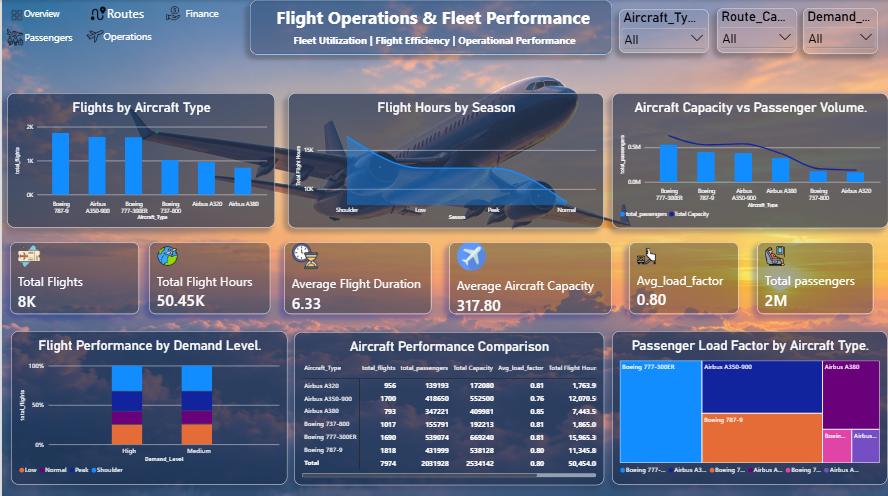

What the dashboard file says about the page in this screenshot:
{"tool":"powerbi","page":{"name":"Flight Operations & Fleet Performance","canvas":[1920,1080],"ordinal":4},"visuals":[{"type":"hundredPercentStackedColumnChart","title":"Flight Performance by Demand Level.","fields":{"Category":["Dim_Demand.Demand_Level"],"Series":["airline_route_profitability_cleaned.Season"],"Y":["Average Aircraft Capacity.total_flights"]},"box":[18.8,715.8,596.9,331.8],"z":0},{"type":"treemap","title":"Passenger Load Factor by Aircraft Type.","fields":{"Group":["airline_route_profitability_cleaned.Aircraft_Type"],"Values":["Average Aircraft Capacity.Total Flight Hours"]},"box":[1316.9,715.8,594.8,331.8],"z":1000},{"type":"cardVisual","fields":{"Data":["calculation_tbl.Total Flight Hours"]},"box":[316.7,523,262.4,155.6],"z":2000},{"type":"cardVisual","fields":{"Data":["Average Aircraft Capacity.Avg_load_factor"]},"box":[1353.6,523,237.1,155.6],"z":3000},{"type":"cardVisual","fields":{"Data":["Average Aircraft Capacity.Average Aircraft Capacity"]},"box":[966.4,523,351.1,155.6],"z":4000},{"type":"cardVisual","fields":{"Data":["calculation_tbl.Average Flight Duration"]},"box":[608,523,318.5,155.6],"z":5000},{"type":"cardVisual","fields":{"Data":["Average Aircraft Capacity.Total passengers"]},"box":[1630.5,523,251.5,155.6],"z":6000},{"type":"shape","box":[535.7,0,781.8,117.6],"z":7000},{"type":"textbox","box":[561,10.9,740.2,52.5],"z":8000},{"type":"textbox","box":[615.3,70.6,637,36.2],"z":9000},{"type":"clusteredColumnChart","title":"Flights by Aircraft Type","fields":{"Category":["airline_route_profitability_cleaned.Aircraft_Type"],"Y":["Average Aircraft Capacity.total_flights"]},"box":[10.9,200.9,579.1,291.4],"z":10000},{"type":"lineClusteredColumnComboChart","title":"Aircraft Capacity vs Passenger Volume.","fields":{"Category":["airline_route_profitability_cleaned.Aircraft_Type"],"Y":["Average Aircraft Capacity.total_passengers"],"Y2":["Average Aircraft Capacity.Total Capacity"]},"box":[1316.9,200.3,596.9,292.2],"z":11000},{"type":"cardVisual","fields":{"Data":["calculation_tbl.total_flights"]},"box":[16.3,523,278.7,155.6],"z":12000},{"type":"areaChart","title":"Flight Hours by Season","fields":{"Category":["airline_route_profitability_cleaned.Season"],"Y":["Average Aircraft Capacity.Total Flight Hours"]},"box":[617.7,200.3,682.4,292.2],"z":13000},{"type":"slicer","fields":{"Values":["airline_route_profitability_cleaned.Aircraft_Type"]},"box":[1331.9,16.3,193.6,63.3],"z":14000},{"type":"slicer","fields":{"Values":["route_details.Route_Category"]},"box":[1543.6,16.3,173.7,63.3],"z":15000},{"type":"slicer","fields":{"Values":["airline_route_profitability_cleaned.Demand_Level"]},"box":[1730,18.1,162.9,63.3],"z":16000},{"type":"pivotTable","title":"Aircraft Performance Comparison","fields":{"Rows":["airline_route_profitability_cleaned.Aircraft_Type"],"Values":["Average Aircraft Capacity.total_flights","Average Aircraft Capacity.total_passengers","Average Aircraft Capacity.Total Capacity","Average Aircraft Capacity.Avg_load_factor","Average Aircraft Capacity.Total Flight Hours","Average Aircraft Capacity.total_profit"]},"box":[631.6,716.6,669.6,331.2],"z":17000},{"type":"actionButton","box":[169,10.6,169,36.1],"z":18000},{"type":"actionButton","box":[16.7,12.8,133.6,38.3],"z":19000},{"type":"textbox","box":[47.1,18.1,85.6,34],"z":20000},{"type":"actionButton","box":[175.5,57.9,173.2,40.4],"z":21000},{"type":"actionButton","box":[10.4,63.8,139.8,48.9],"z":22000},{"type":"textbox","box":[168.3,10.9,152.3,36.1],"z":23000},{"type":"image","box":[187.8,10.6,39.7,36.1],"z":24000},{"type":"textbox","box":[367.4,12.7,129.4,38.3],"z":25000},{"type":"image","box":[352.7,0,35.5,57.4],"z":26000},{"type":"textbox","box":[19.9,65.1,141.9,31.9],"z":27000},{"type":"image","box":[10.4,55.3,35.5,48.9],"z":28000},{"type":"textbox","box":[208.1,63.3,119,34],"z":29000},{"type":"image","box":[175.5,61.5,52.5,36.2],"z":30000},{"type":"image","box":[2.1,17,59.7,31.3],"z":31000}]}

Visuals, with their boxes on the page's 1920x1080 design canvas (x1, y1, x2, y2). These are canvas units, not pixel positions in the 888x496 screenshot, which may show the page scaled, cropped or inside an application window:
"Flight Performance by Demand Level." hundredPercentStackedColumnChart: 19/716/616/1048
"Passenger Load Factor by Aircraft Type." treemap: 1317/716/1912/1048
cardVisual - calculation_tbl.Total Flight Hours: 317/523/579/679
cardVisual - Average Aircraft Capacity.Avg_load_factor: 1354/523/1591/679
cardVisual - Average Aircraft Capacity.Average Aircraft Capacity: 966/523/1318/679
cardVisual - calculation_tbl.Average Flight Duration: 608/523/926/679
cardVisual - Average Aircraft Capacity.Total passengers: 1630/523/1882/679
shape: 536/0/1318/118
textbox: 561/11/1301/63
textbox: 615/71/1252/107
"Flights by Aircraft Type" clusteredColumnChart: 11/201/590/492
"Aircraft Capacity vs Passenger Volume." lineClusteredColumnComboChart: 1317/200/1914/492
cardVisual - calculation_tbl.total_flights: 16/523/295/679
"Flight Hours by Season" areaChart: 618/200/1300/492
slicer - airline_route_profitability_cleaned.Aircraft_Type: 1332/16/1526/80
slicer - route_details.Route_Category: 1544/16/1717/80
slicer - airline_route_profitability_cleaned.Demand_Level: 1730/18/1893/81
"Aircraft Performance Comparison" pivotTable: 632/717/1301/1048
actionButton: 169/11/338/47
actionButton: 17/13/150/51
textbox: 47/18/133/52
actionButton: 176/58/349/98
actionButton: 10/64/150/113
textbox: 168/11/321/47
image: 188/11/228/47
textbox: 367/13/497/51
image: 353/0/388/57
textbox: 20/65/162/97
image: 10/55/46/104
textbox: 208/63/327/97
image: 176/62/228/98
image: 2/17/62/48
